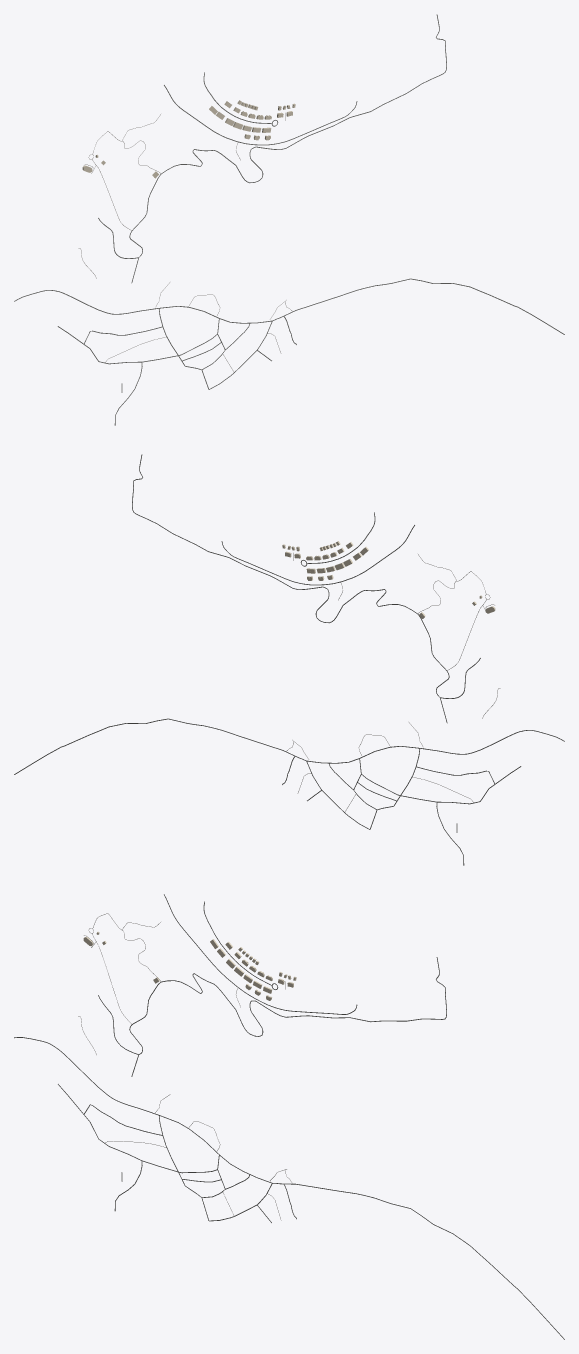
Rendered from historic-palestine-10_26_3517_3209.glb.
3 views of the same model, one above another, from view 1: azimuth 30°, elevation 25°; view 2: azimuth 150°, elevation 25°; view 3: azimuth 330°, elevation 25° (orthographic).
Visible parts, largest first — view 1: Road .001, Road .003; view 2: Road .001, Road .003; view 3: Road .001, Road .003.
Boxes of the visible parts, <box> form: Road .001: <box>14,278,564,334</box>; Road .003: <box>129,14,446,283</box>; Road .001: <box>14,718,564,774</box>; Road .003: <box>132,454,449,723</box>; Road .001: <box>14,1037,564,1339</box>; Road .003: <box>129,957,446,1076</box>.
Bounding box in the file's own units: 2380 × 1453 × 8.7.
